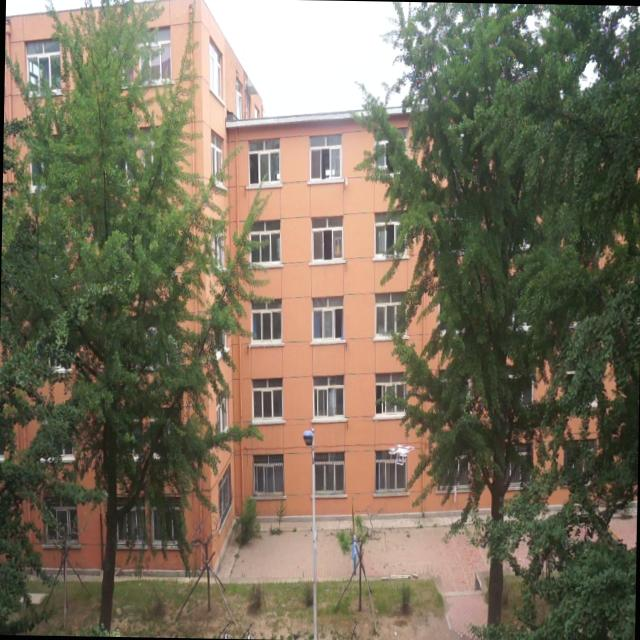drone: (386, 438, 416, 468)
